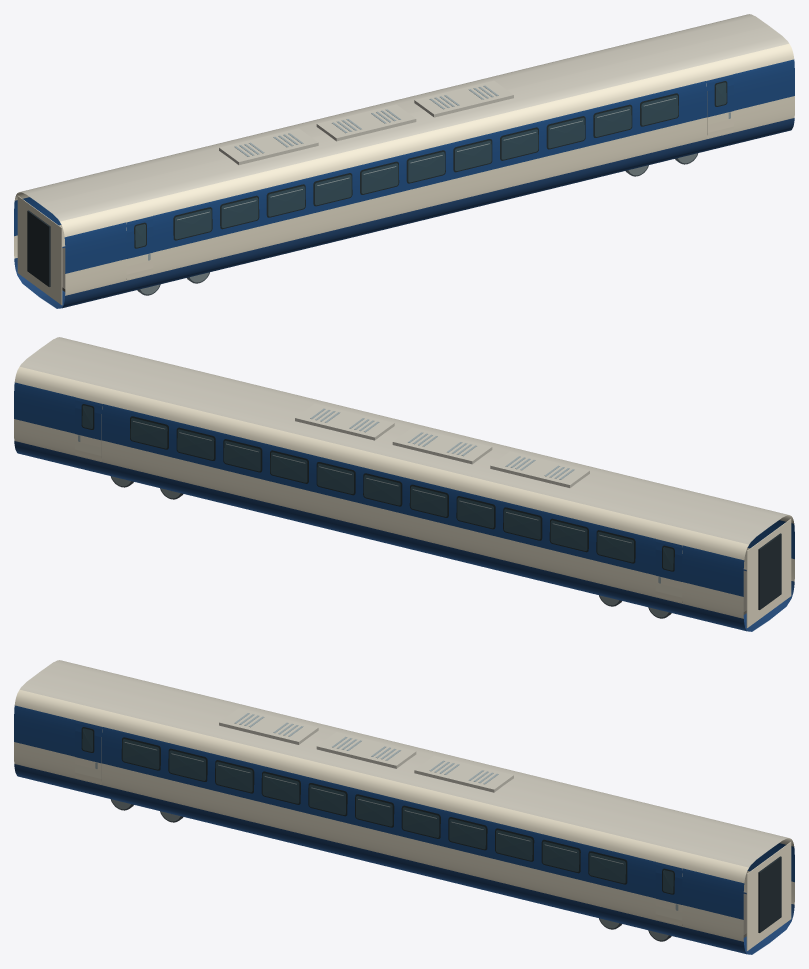
Rendered from express-retro-middle.glb.
3 renders of one model, top to bottom at view 1: azimuth 30°, elevation 25°; view 2: azimuth 150°, elevation 25°; view 3: azimuth 330°, elevation 25°, orthographic.
Parts seen in each view (by area): view 1: body, door_right_rear, door_right_front; view 2: body, door_left_rear, door_left_front; view 3: body, door_right_front, door_right_rear.
Boxes of the visible parts, box(x1,y1,x2,y2) form: body: box(14, 14, 794, 308); door_right_rear: box(126, 216, 153, 279); door_right_front: box(706, 74, 733, 137); body: box(14, 337, 794, 631); door_left_rear: box(655, 539, 682, 602); door_left_front: box(75, 397, 102, 460); body: box(14, 660, 794, 954); door_right_front: box(655, 862, 682, 925); door_right_rear: box(75, 720, 102, 783).
Bounding box in the file's own units: 27.01 × 3.79 × 3.39.
